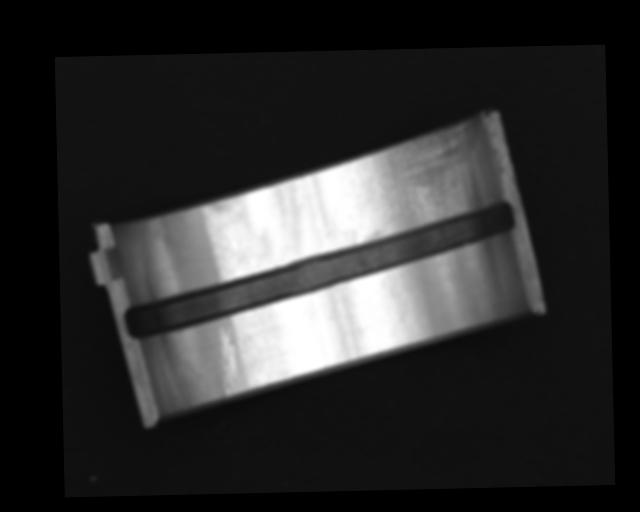gap: (121, 201, 516, 339)
nick: (217, 325, 238, 400)
scratch: (363, 120, 481, 241)
